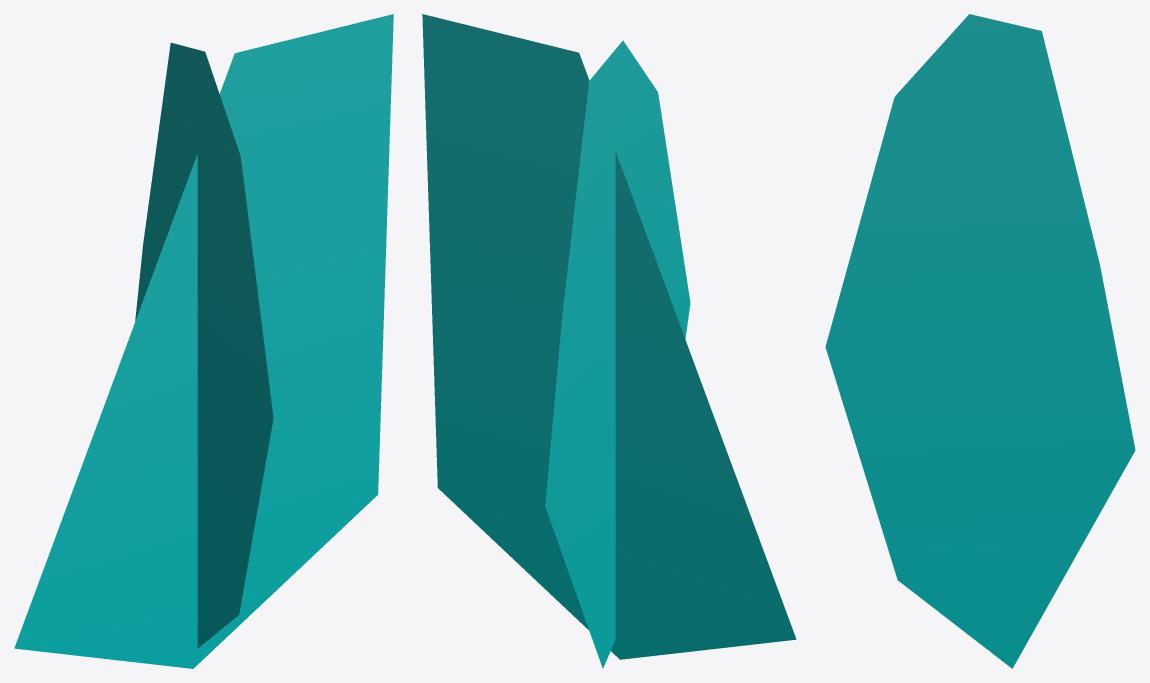
The model's file is Raspberry_wf0oefeja_High_wf0oefeja_VarB_LOD3.fbx.
3 views of the same model, side by side, from view 1: azimuth 30°, elevation 25°; view 2: azimuth 150°, elevation 25°; view 3: azimuth 270°, elevation 25° (orthographic). The views are drawn at different scales.
Parts seen in each view (by area): view 1: _er5e_VarB_LOD4; view 2: _er5e_VarB_LOD4; view 3: _er5e_VarB_LOD4.
Part boxes in pixels (box(x1,y1,x2,y2)): _er5e_VarB_LOD4: box(14, 14, 393, 668); _er5e_VarB_LOD4: box(422, 14, 796, 668); _er5e_VarB_LOD4: box(825, 14, 1135, 668).
Size of the model in its own units: 20.55 by 32.21 by 13.82.
